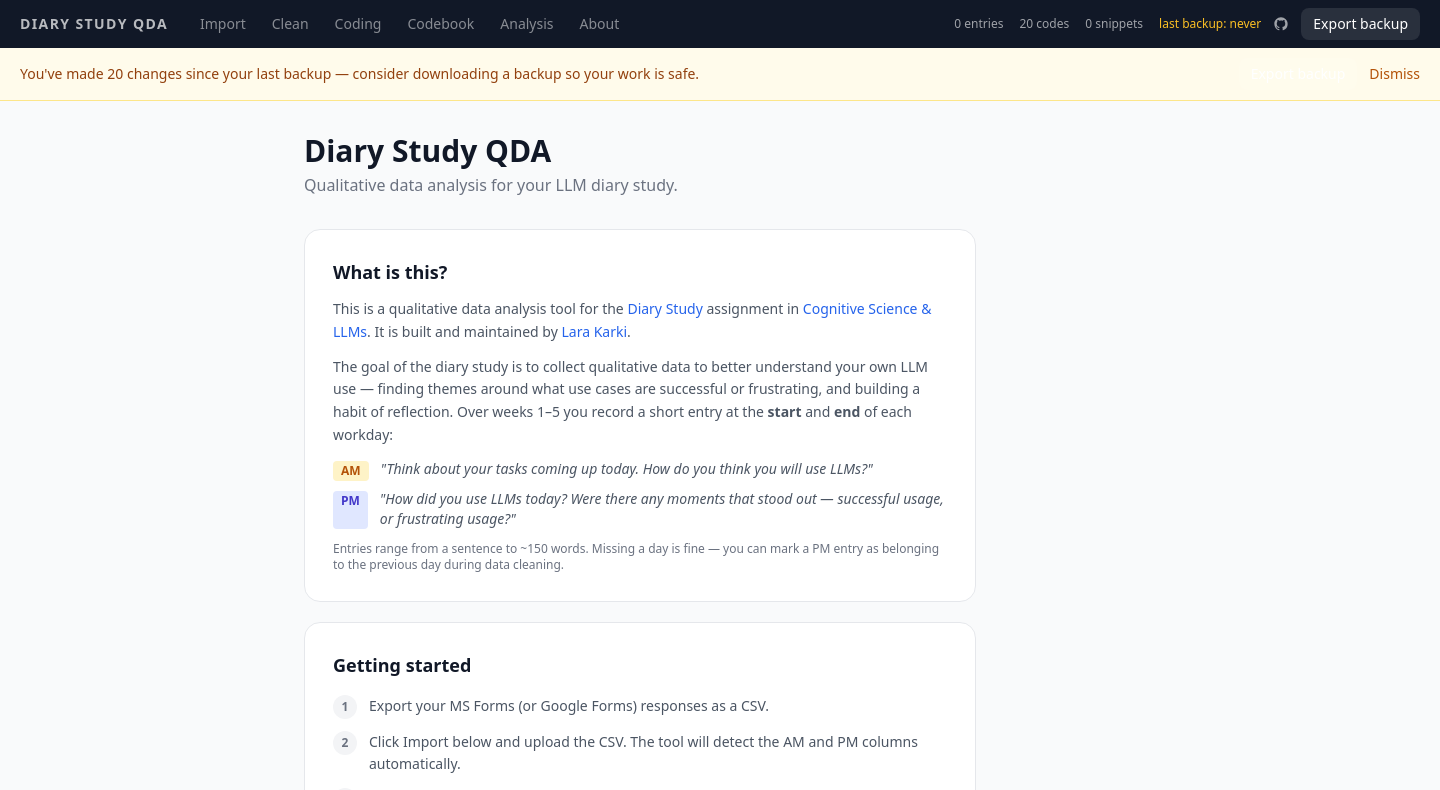
Test: App – change count backup banner › hides the banner and resets the count when Dismiss is clicked
Click the button "Dismiss".
click(1395, 74)  # box left=1369, top=64, right=1420, bottom=84
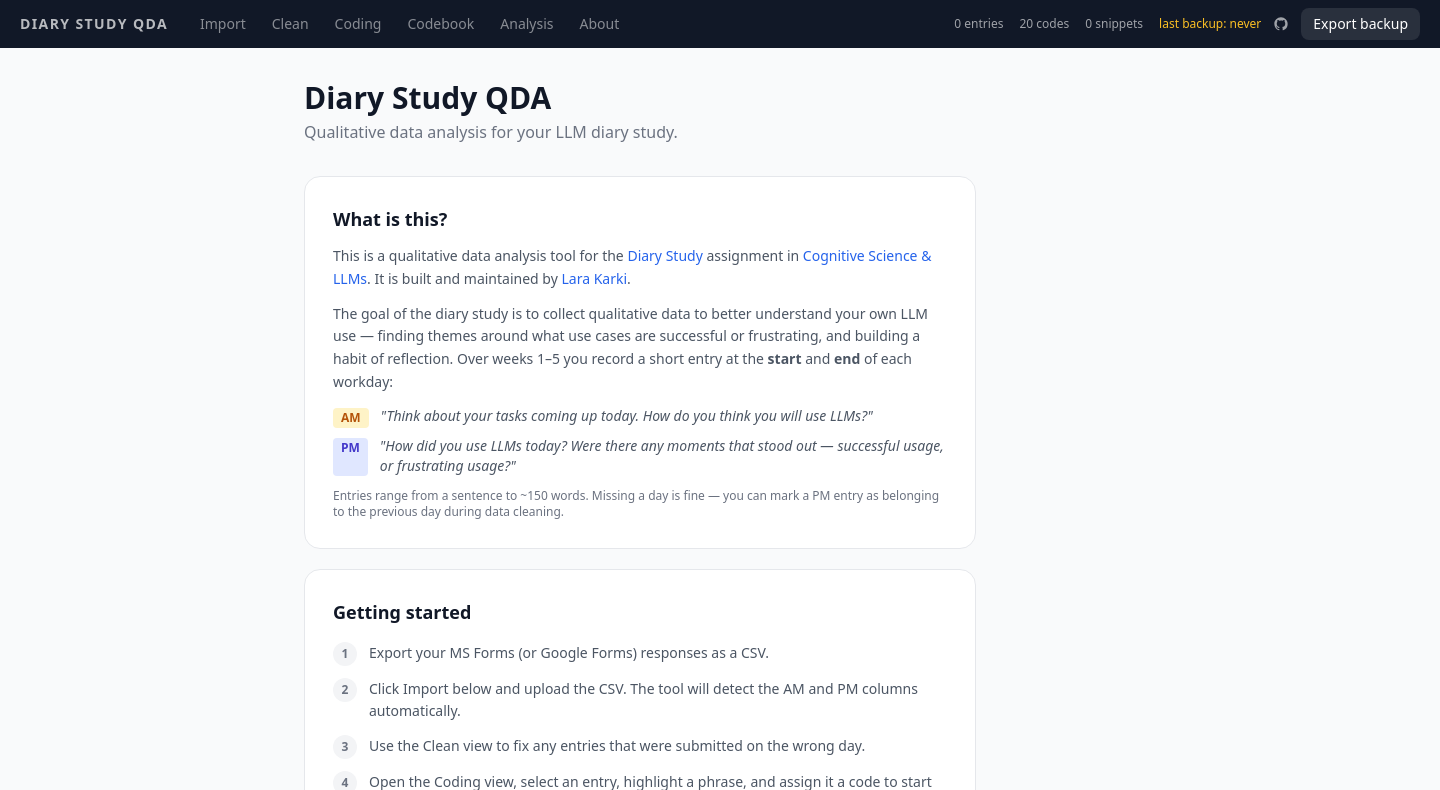
Expected: the text "changes since your last backup" is gone
